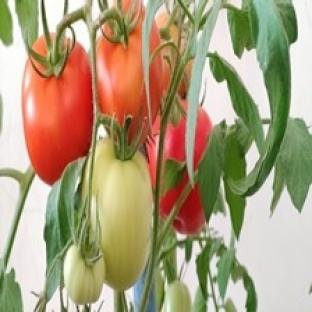Tomato: (21, 42, 93, 185), (92, 138, 153, 291), (97, 0, 162, 143), (63, 246, 105, 305), (163, 117, 186, 175), (156, 12, 185, 52), (163, 280, 192, 311)
